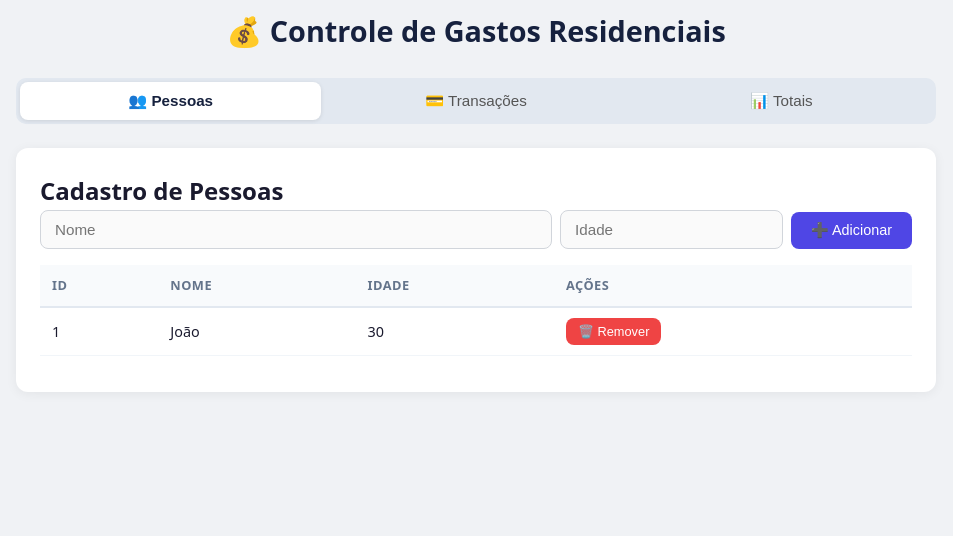
Test: TransactionsTab › should show transaction form fields
Step 1. Click the button "💳 Transações" → x=476, y=101, box 325,82 -> 627,120
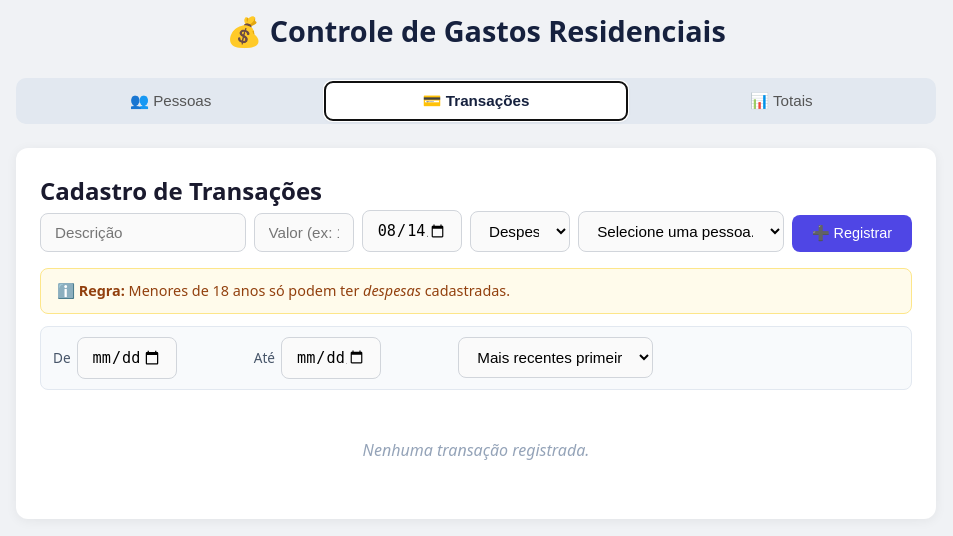
expect the field with placeholder "Descrição" is shown: met, box 40,214 -> 246,252
expect the field labelled "Valor" is shown: met, box 254,214 -> 354,252
